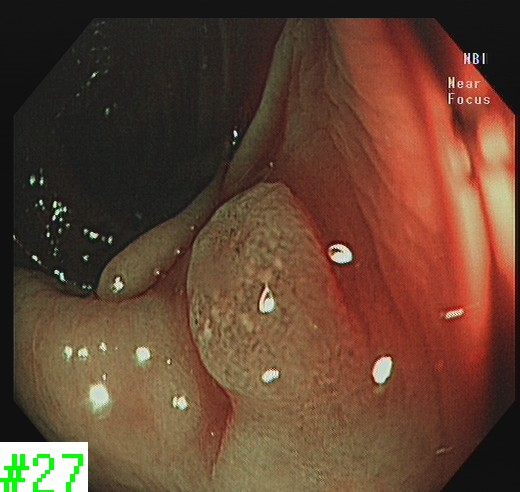adenoma: (183, 178, 365, 407)
